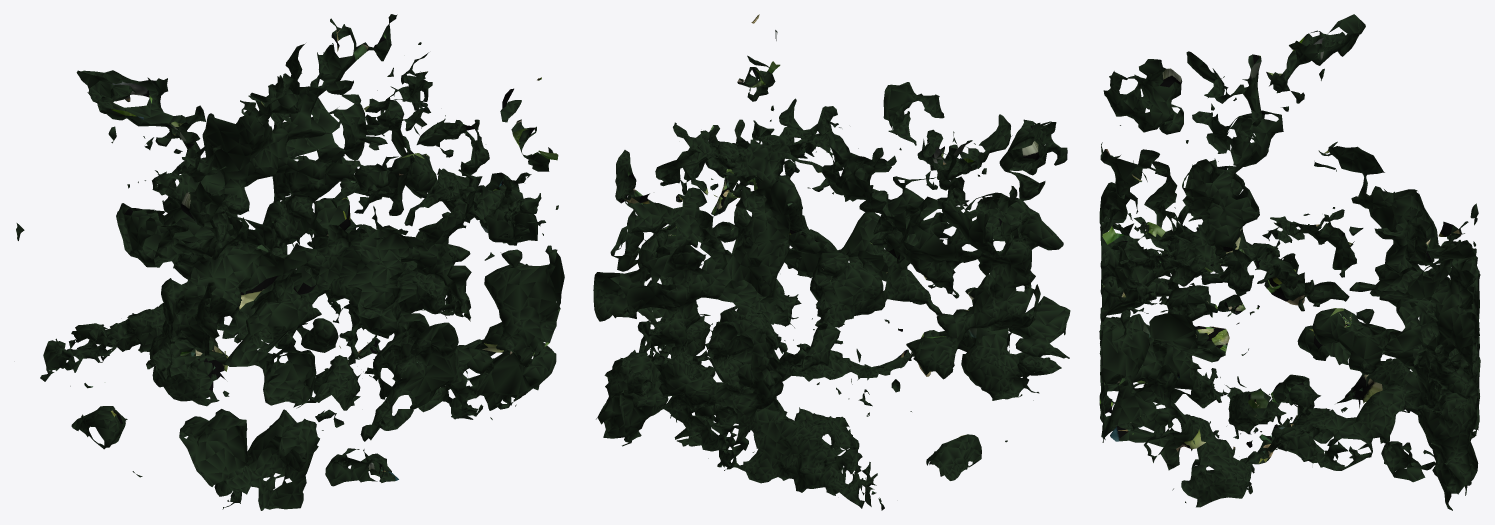
Rendered from fuenteMelb_lowpoly.obj.
3 renders of one model, left to right at view 1: azimuth 30°, elevation 25°; view 2: azimuth 150°, elevation 25°; view 3: azimuth 270°, elevation 25°, orthographic. The views are drawn at different scales.
Bounding box in the file's own units: 4.06 × 4 × 4.06.
